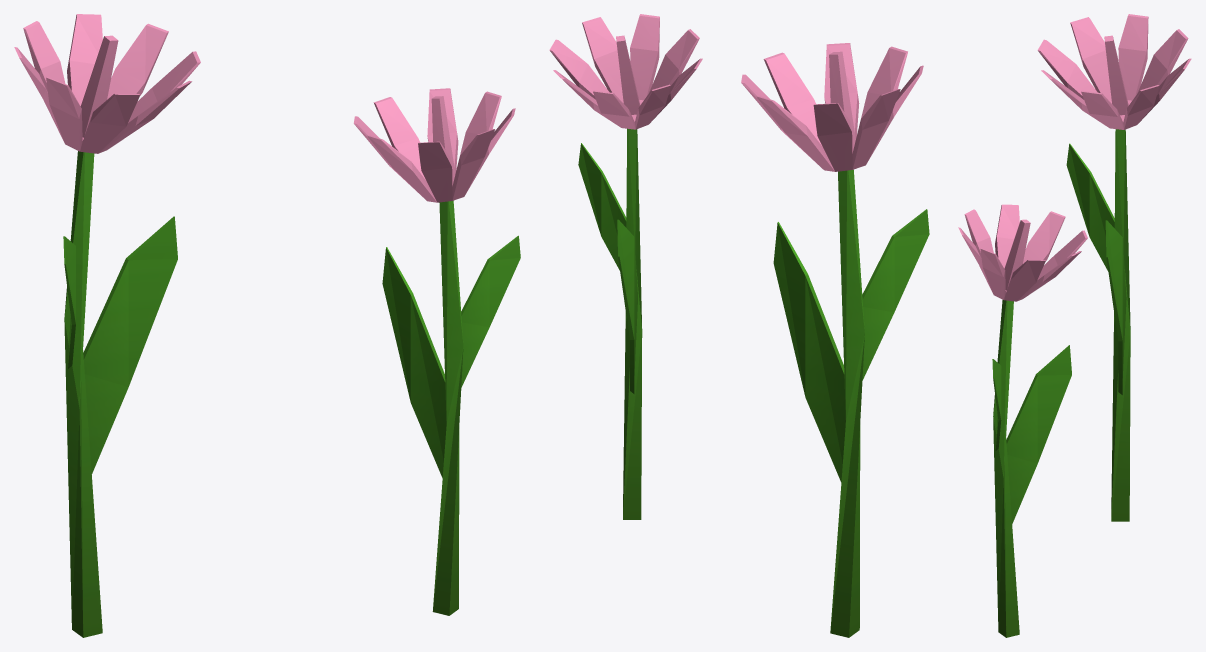
The model's file is flower_tulip.glb.
3 renders of one model, left to right at view 1: azimuth 30°, elevation 25°; view 2: azimuth 150°, elevation 25°; view 3: azimuth 270°, elevation 25°, orthographic. The views are drawn at different scales.
Visible parts, largest first — view 1: Flower 3_1_A; view 2: Flower 3_1_A; view 3: Flower 3_1_A.
Part boxes in pixels (x1,y1,x2,y2): Flower 3_1_A: (14, 14, 520, 637); Flower 3_1_A: (549, 14, 929, 637); Flower 3_1_A: (958, 14, 1191, 637).
Size of the model in its own units: 0.2813 by 0.38 by 0.1652.
1 material, 1 textured.
